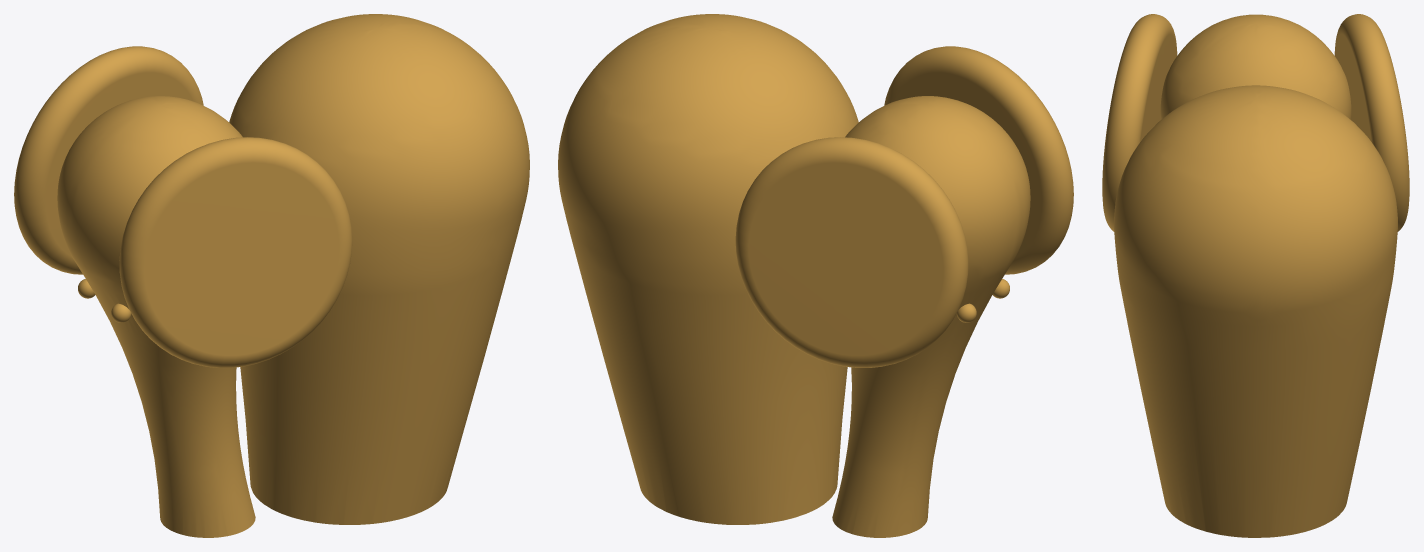
The model's file is elephant.glb.
3 views of the same model, side by side, from view 1: azimuth 30°, elevation 25°; view 2: azimuth 150°, elevation 25°; view 3: azimuth 270°, elevation 25° (orthographic). The views are drawn at different scales.
Parts seen in each view (by area): view 1: Object_2; view 2: Object_2; view 3: Object_2.
Part boxes in pixels (left/top/right/bottom): Object_2: left=14, top=14, right=529, bottom=537; Object_2: left=558, top=14, right=1073, bottom=537; Object_2: left=1102, top=14, right=1409, bottom=537.
Size of the model in its own units: 1 by 0.9733 by 0.6565.
